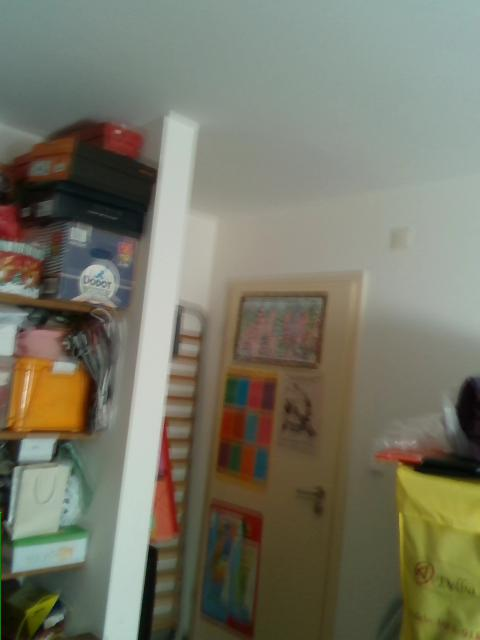door: (188, 269, 365, 637)
